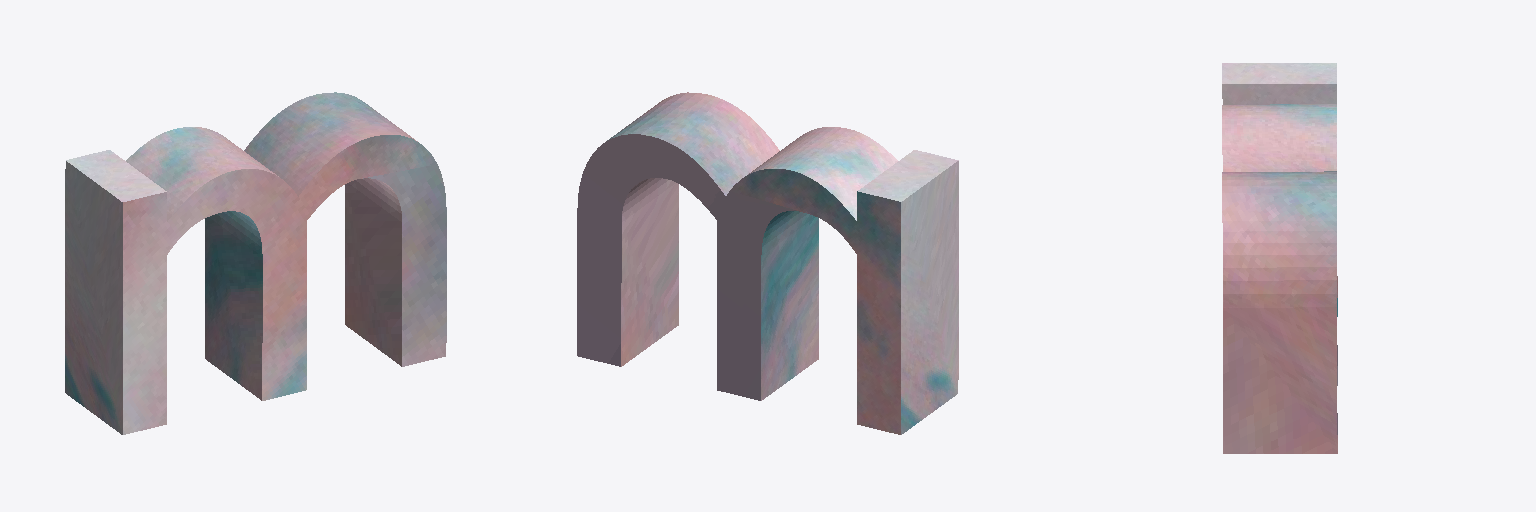
3 renders of one model, left to right at view 1: azimuth 30°, elevation 25°; view 2: azimuth 150°, elevation 25°; view 3: azimuth 270°, elevation 25°, orthographic.
Parts seen in each view (by area): view 1: 文本.006_Mesh.008; view 2: 文本.006_Mesh.008; view 3: 文本.006_Mesh.008.
Part boxes in pixels (x1,y1,x2,y2): 文本.006_Mesh.008: (65,92,446,434); 文本.006_Mesh.008: (577,92,958,434); 文本.006_Mesh.008: (1222,63,1337,453).
Bounding box in the file's own units: 0.8836 × 0.6202 × 0.2718.
1 materials, 1 textured.